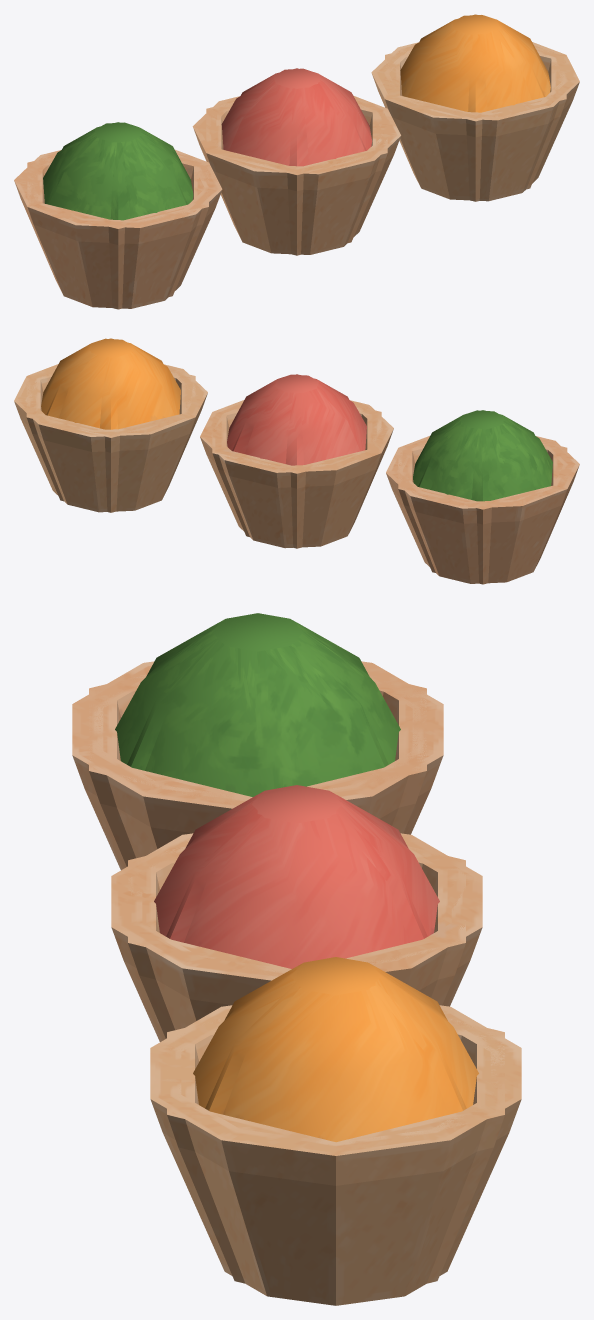
File: baskets.bundle.fbx
The picture shows the model from 3 angles, top to bottom: view 1: azimuth 30°, elevation 25°; view 2: azimuth 150°, elevation 25°; view 3: azimuth 270°, elevation 25°; orthographic projection. The views are drawn at different scales.
Parts seen in each view (by area): view 1: baskets, baskets_low, baskets_s01; view 2: baskets, baskets_low, baskets_s00, baskets_s02; view 3: baskets, baskets_low, baskets_s00, baskets_s01.
Part boxes in pixels (x1,y1,x2,y2): baskets: [14, 15, 579, 308]; baskets_low: [27, 14, 566, 309]; baskets_s01: [27, 142, 387, 206]; baskets: [14, 338, 579, 583]; baskets_low: [26, 338, 567, 584]; baskets_s00: [245, 461, 519, 583]; baskets_s02: [213, 408, 325, 484]; baskets: [72, 613, 521, 1305]; baskets_low: [89, 613, 504, 1283]; baskets_s00: [348, 674, 465, 896]; baskets_s01: [128, 788, 318, 1036].
Size of the model in its own units: 3.7 by 0.95 by 1.38.
1 material, 1 textured.
